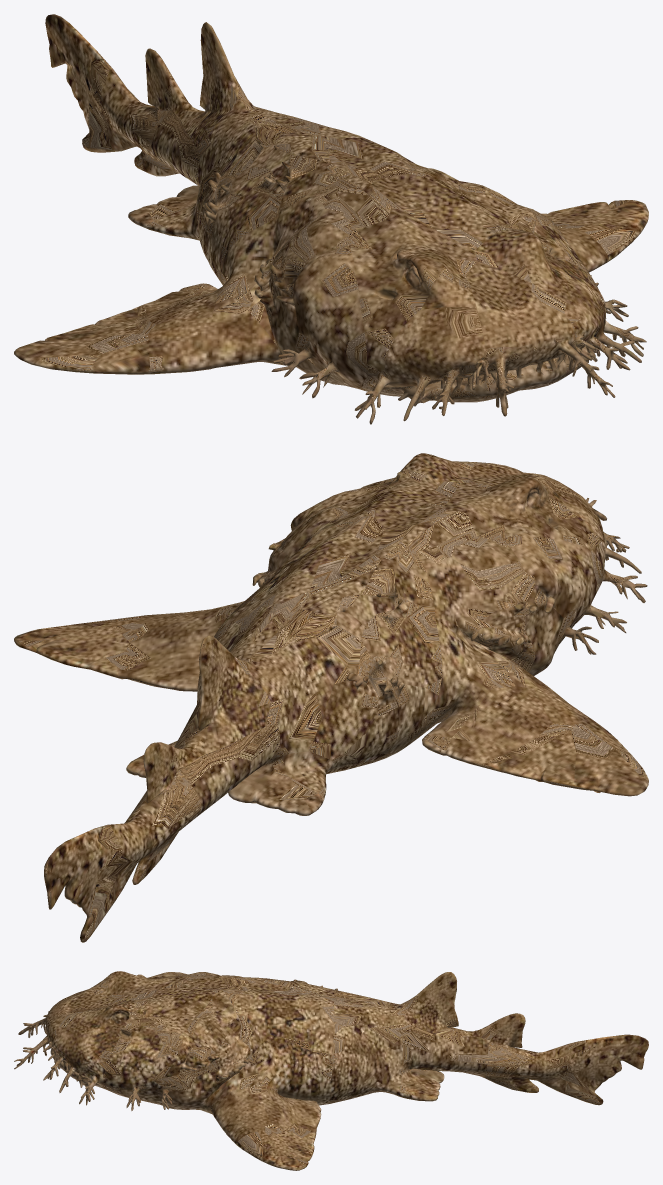
Rendered from wobbegong.glb.
The picture shows the model from 3 angles, top to bottom: view 1: azimuth 30°, elevation 25°; view 2: azimuth 150°, elevation 25°; view 3: azimuth 270°, elevation 25°; orthographic projection. The views are drawn at different scales.
Parts seen in each view (by area): view 1: tripo_node_61c27a5a-ac98-4bc8-84b9-48266e70747b; view 2: tripo_node_61c27a5a-ac98-4bc8-84b9-48266e70747b; view 3: tripo_node_61c27a5a-ac98-4bc8-84b9-48266e70747b.
Boxes of the visible parts, x1,y1,x2,y2 form: tripo_node_61c27a5a-ac98-4bc8-84b9-48266e70747b: (14,14,648,424); tripo_node_61c27a5a-ac98-4bc8-84b9-48266e70747b: (14,453,648,942); tripo_node_61c27a5a-ac98-4bc8-84b9-48266e70747b: (14,971,648,1170).
Size of the model in its own units: 1.52 by 0.4988 by 2.16.
Materials: 1 (1 with a texture image).
